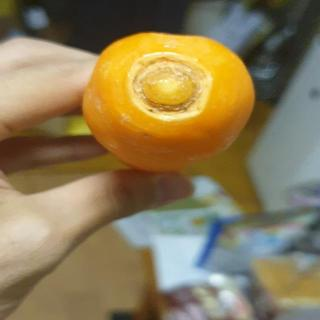carrot: (74, 26, 262, 174)
